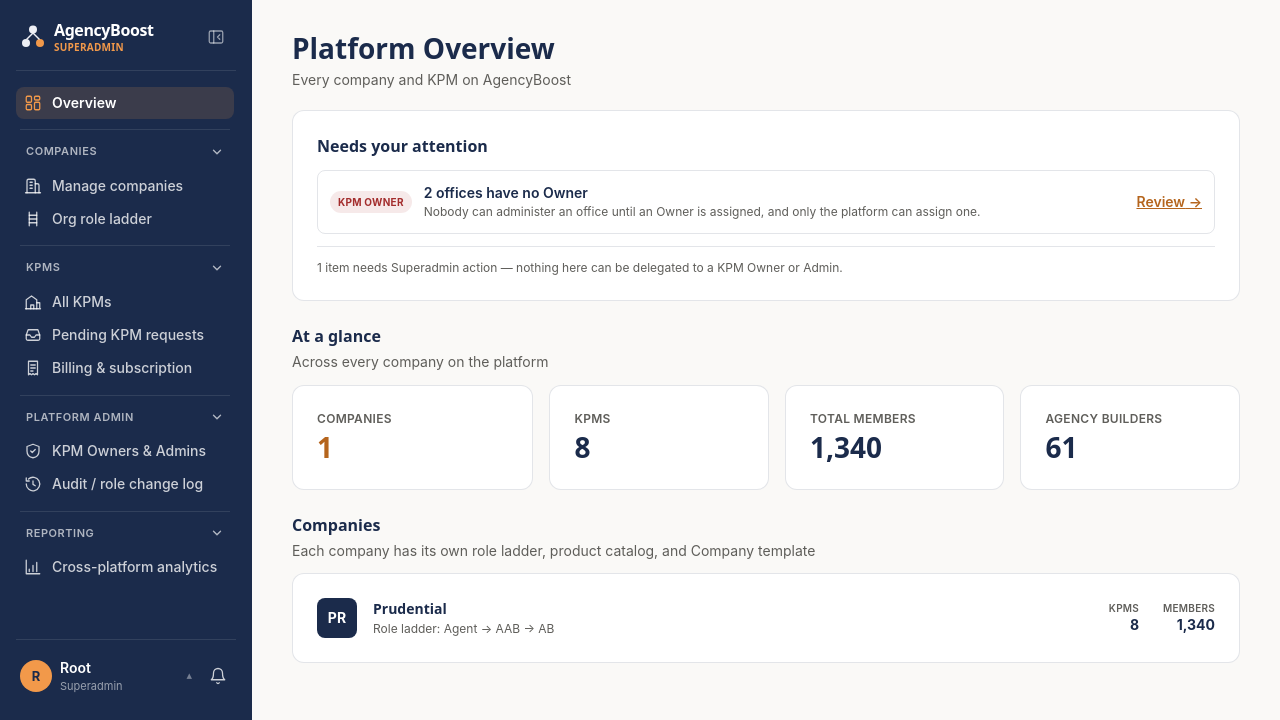
Scenario: screens have no axe violations › admin overview with the sidebar account menu open
The image size is (1280, 720).
What coordinates should you click on to do the following:
click the button "R Root Superadmin ▴"
I would click on:
 (106, 676)
Its box is [16,652,196,700].
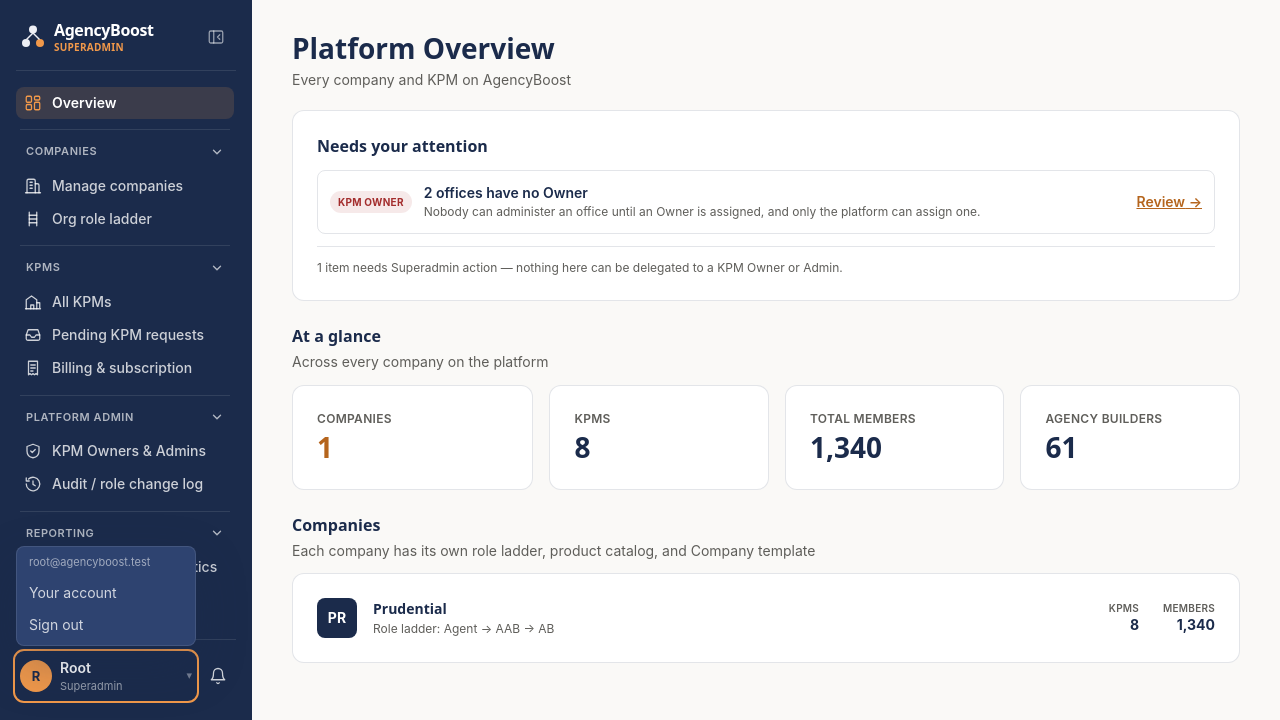
Expected: the button "Sign out" is shown, [21,609,191,641]
